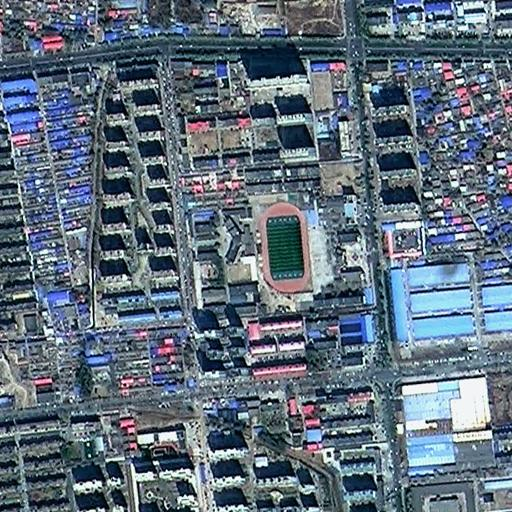school: (220, 196, 308, 313), (303, 190, 370, 312)
